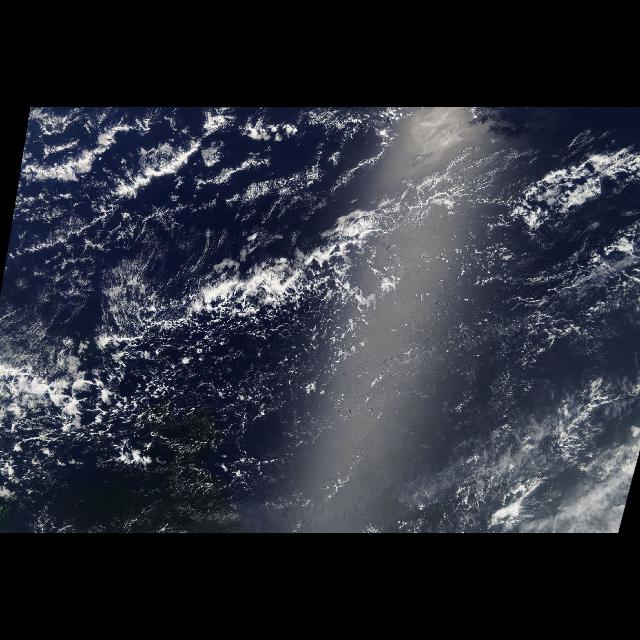Gravel: (25, 258, 523, 406)
